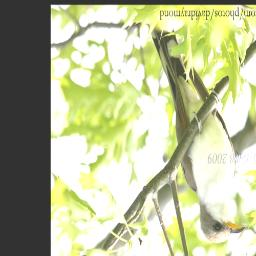Cuckoo: (152, 22, 246, 246)
